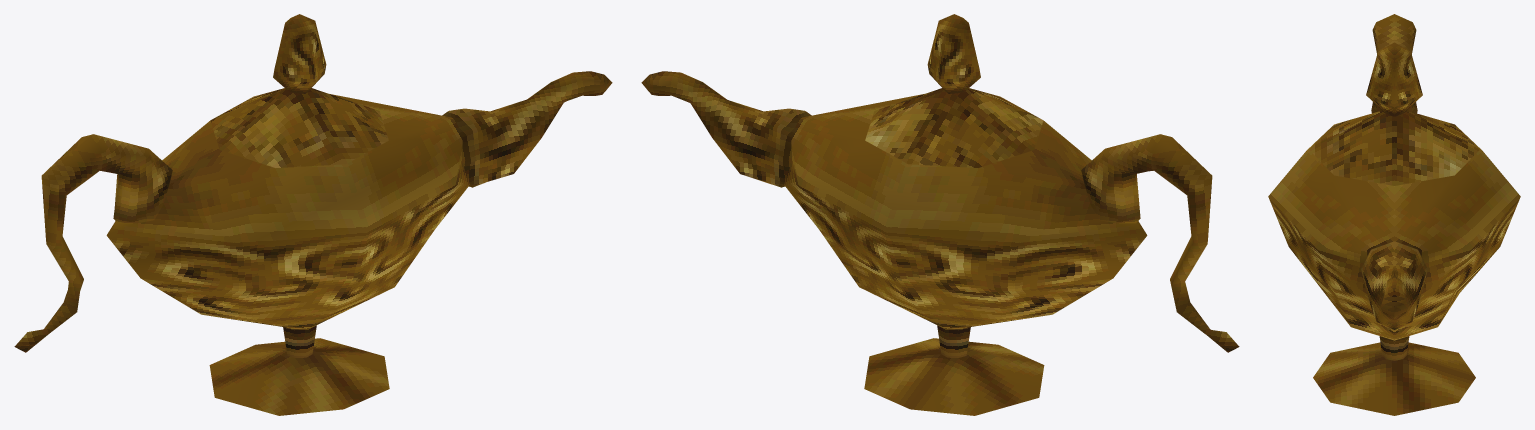
File: ps2_save-icons_darkcloud.glb
3 renders of one model, left to right at view 1: azimuth 30°, elevation 25°; view 2: azimuth 150°, elevation 25°; view 3: azimuth 270°, elevation 25°, orthographic. The views are drawn at different scales.
Visible parts, largest first — view 1: dkicon.ico; view 2: dkicon.ico; view 3: dkicon.ico.
Boxes of the visible parts, box(x1,y1,x2,y2) form: dkicon.ico: box(14, 14, 612, 415); dkicon.ico: box(641, 14, 1239, 415); dkicon.ico: box(1268, 14, 1520, 415).
Size of the model in its own units: 3.36 by 1.95 by 1.33.
Materials: 1 (1 with a texture image).
